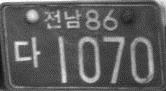0: (129, 35, 154, 84), (76, 36, 101, 84)
1: (55, 34, 70, 84)
6: (102, 9, 118, 30)
7: (101, 35, 126, 85)
8: (84, 8, 101, 31)
다: (13, 35, 41, 71)
전남_O: (43, 9, 82, 30)
